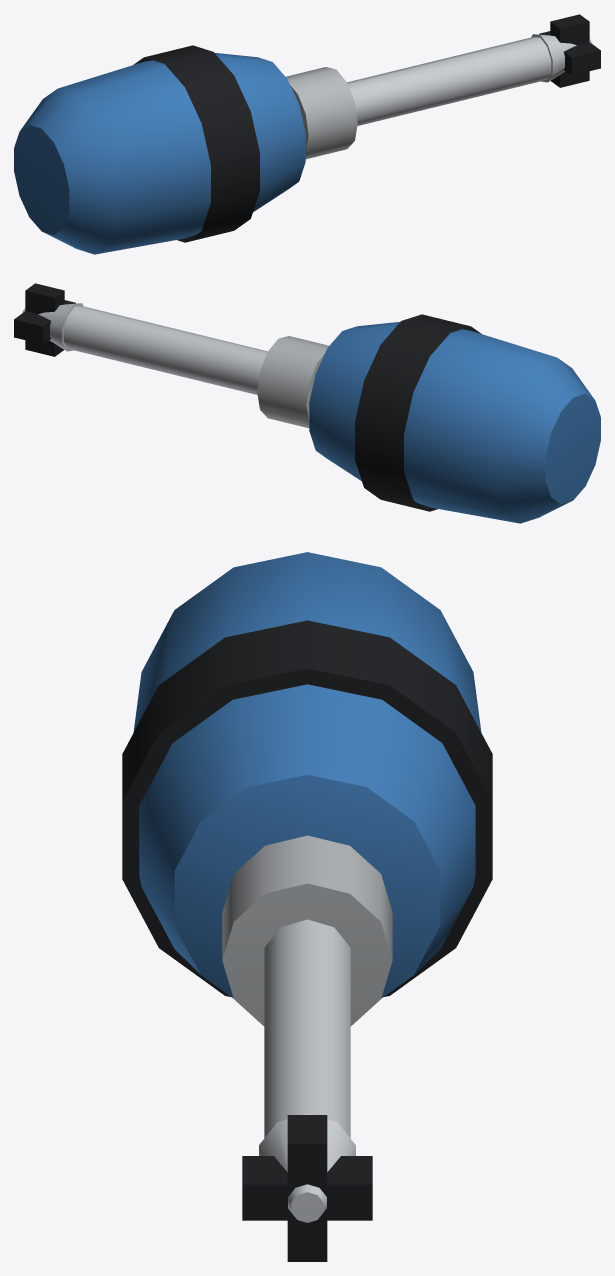
The model's file is SM_Screwdriver_Phillips_01.glb.
The picture shows the model from 3 angles, top to bottom: view 1: azimuth 30°, elevation 25°; view 2: azimuth 150°, elevation 25°; view 3: azimuth 270°, elevation 25°; orthographic projection. The views are drawn at different scales.
Visible parts, largest first — view 1: SM_Screwdriver_Phillips_01; view 2: SM_Screwdriver_Phillips_01; view 3: SM_Screwdriver_Phillips_01.
Part boxes in pixels (x1=…): SM_Screwdriver_Phillips_01: x1=14, y1=14, x2=600, y2=254; SM_Screwdriver_Phillips_01: x1=14, y1=283, x2=600, y2=523; SM_Screwdriver_Phillips_01: x1=122, y1=552, x2=492, y2=1261.
Bounding box in the file's own units: 0.223 × 0.067 × 0.0653.
1 material, 1 textured.
